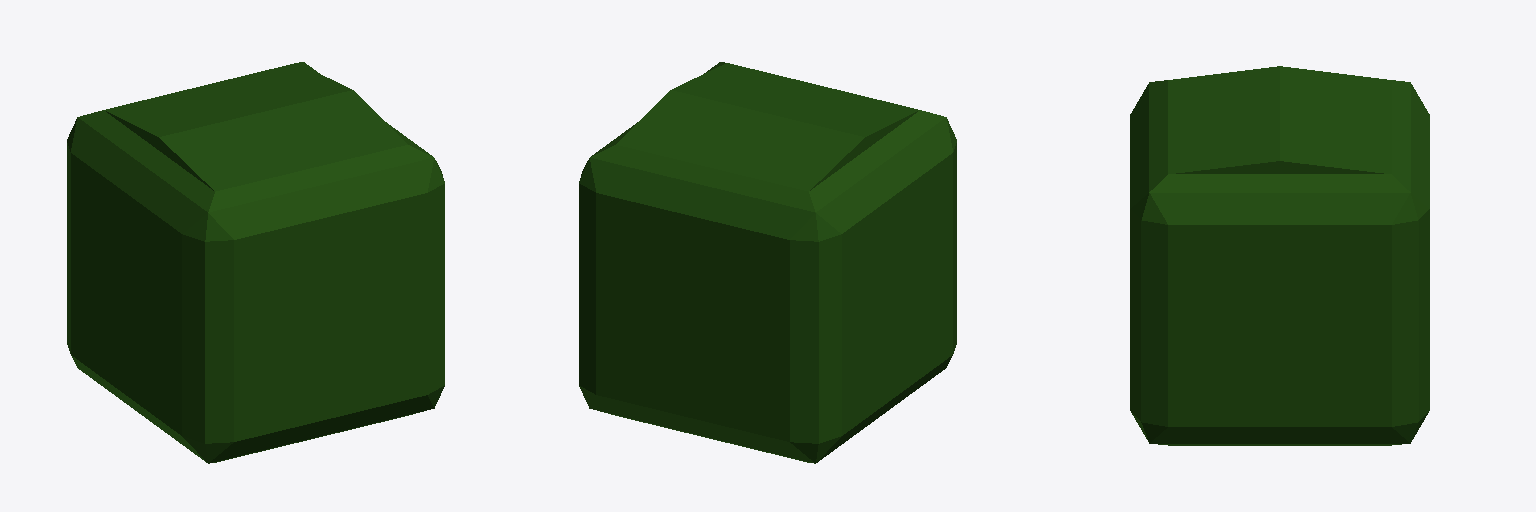
The model's file is bush1.obj.
The picture shows the model from 3 angles: view 1: azimuth 30°, elevation 25°; view 2: azimuth 150°, elevation 25°; view 3: azimuth 270°, elevation 25°; orthographic projection.
Visible parts, largest first — view 1: Object.1; view 2: Object.1; view 3: Object.1.
Part boxes in pixels (x1,y1,x2,y2): Object.1: (67,62,444,463); Object.1: (579,62,956,463); Object.1: (1130,66,1429,445).
Size of the model in its own units: 1 by 1.05 by 1.